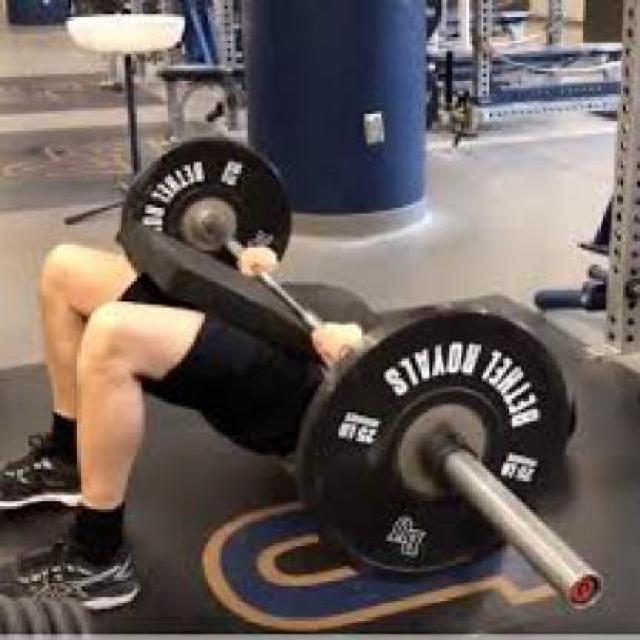Barbell: (566, 568, 606, 614)
